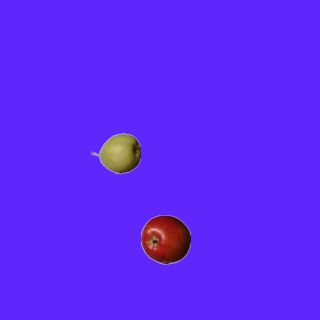Apple Braeburn: (140, 214, 190, 264)
Pear: (90, 128, 140, 178)
